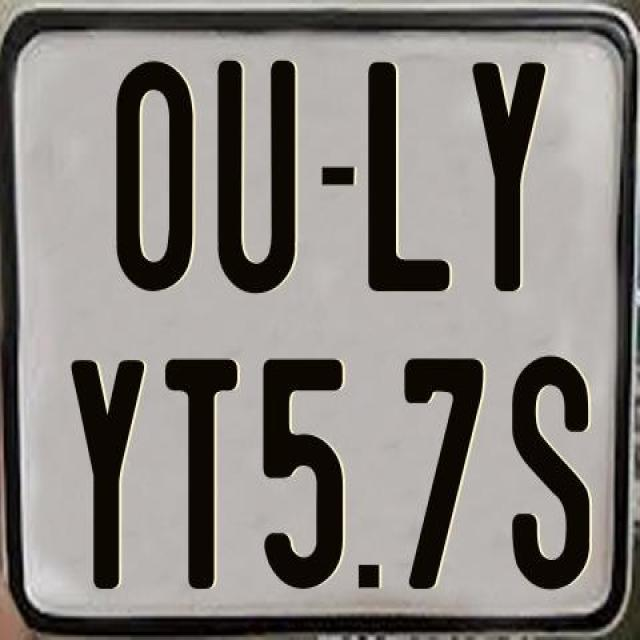0: (113, 56, 199, 290)
5: (260, 358, 344, 598)
7: (404, 356, 484, 594)
L: (366, 62, 450, 293)
S: (509, 356, 587, 590)
T: (162, 357, 242, 589)
U: (218, 59, 302, 293)
Y: (66, 360, 148, 597), (470, 62, 550, 296)
